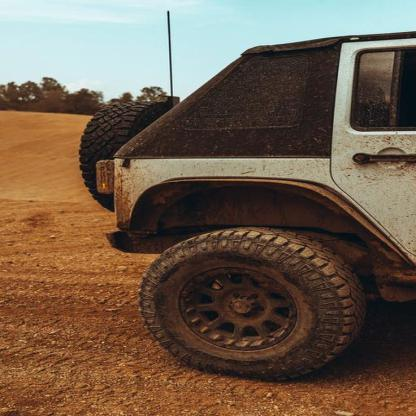Tire: (135, 224, 367, 382)
